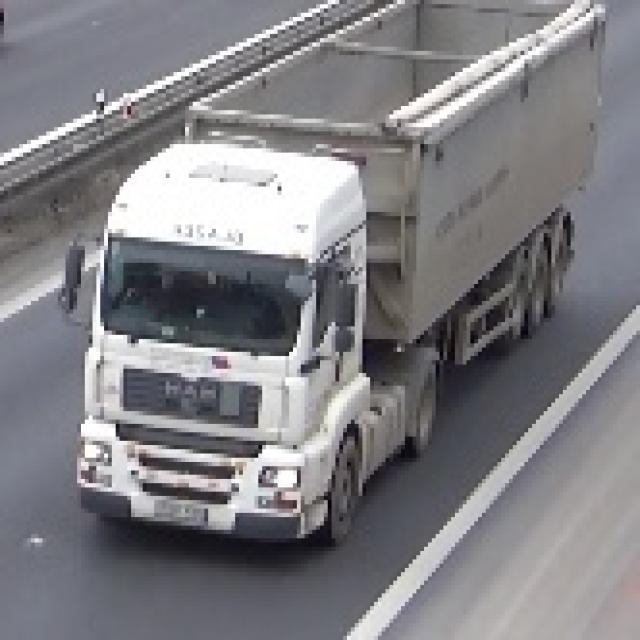TRUCK: (77, 8, 605, 551)
